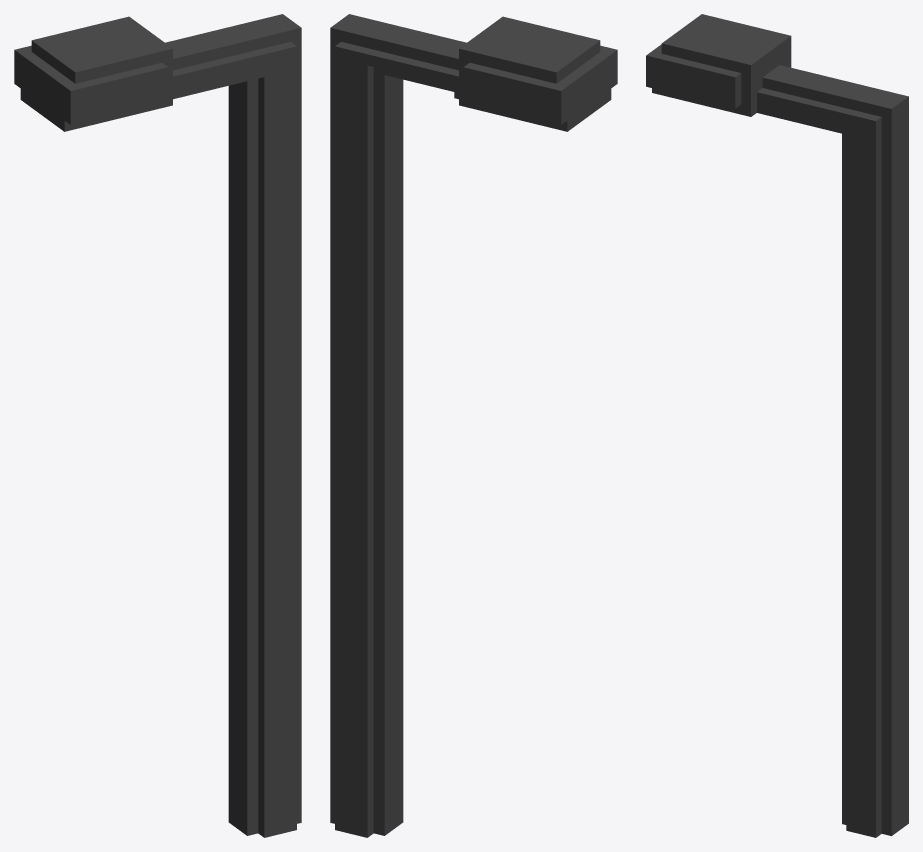
The model's file is Fonar.obj.
3 views of the same model, side by side, from view 1: azimuth 30°, elevation 25°; view 2: azimuth 150°, elevation 25°; view 3: azimuth 330°, elevation 25° (orthographic). The views are drawn at different scales.
Bounding box in the file's own units: 2.3 × 7.2 × 0.9.
1 material, 1 textured.
